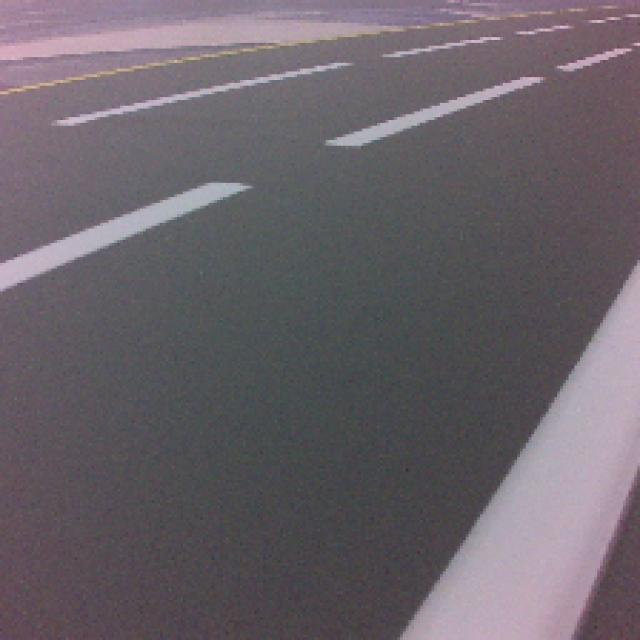Pedestrian crosswalk: (405, 267, 640, 638)
